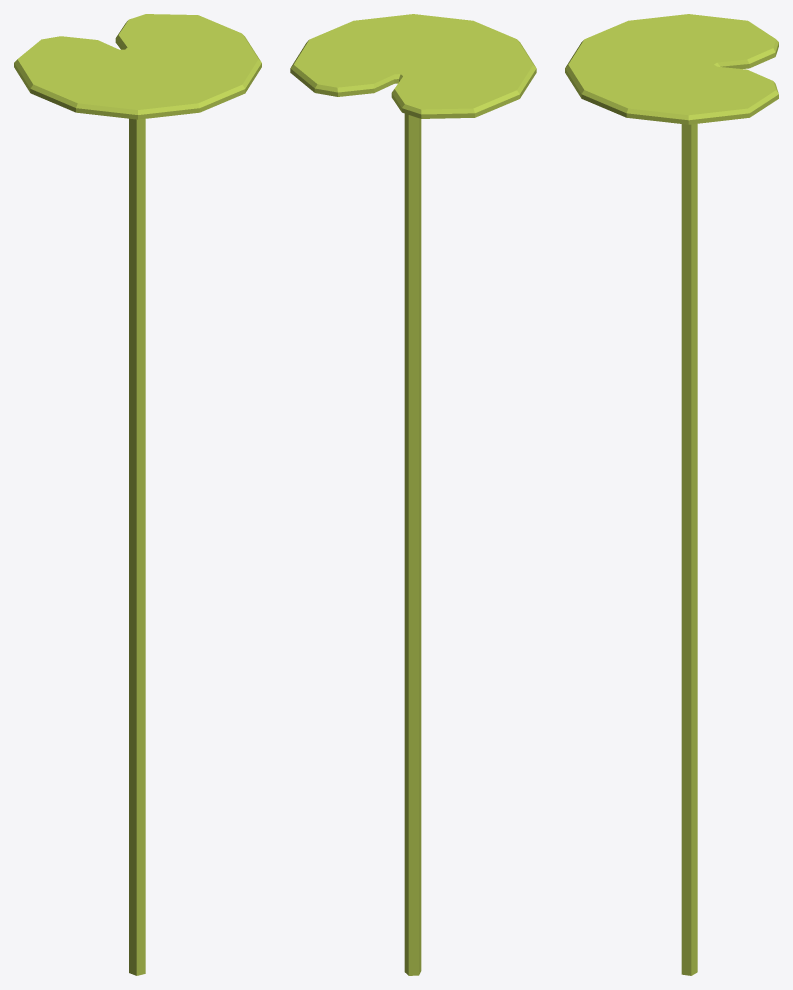
The model's file is NHP_LilyPad_LP_A1_01.fbx.
The picture shows the model from 3 angles, left to right: view 1: azimuth 30°, elevation 25°; view 2: azimuth 150°, elevation 25°; view 3: azimuth 270°, elevation 25°; orthographic projection.
Visible parts, largest first — view 1: NHP_LilyPad_LP_A1_01_LOD0; view 2: NHP_LilyPad_LP_A1_01_LOD0; view 3: NHP_LilyPad_LP_A1_01_LOD0.
Part boxes in pixels (<box>): NHP_LilyPad_LP_A1_01_LOD0: <box>14,14,261,975</box>; NHP_LilyPad_LP_A1_01_LOD0: <box>290,14,536,975</box>; NHP_LilyPad_LP_A1_01_LOD0: <box>565,14,778,975</box>.
Size of what is drawn, in the model's own units: 0.495 by 2.01 by 0.4299.
